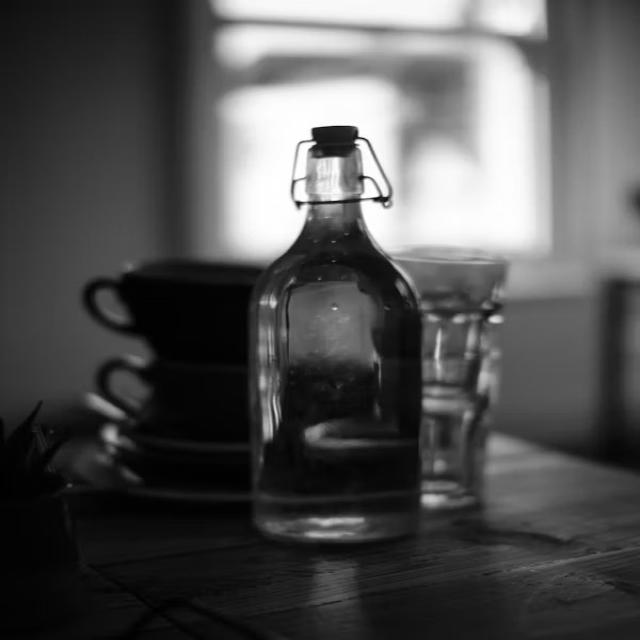Bottle: (250, 127, 421, 541)
